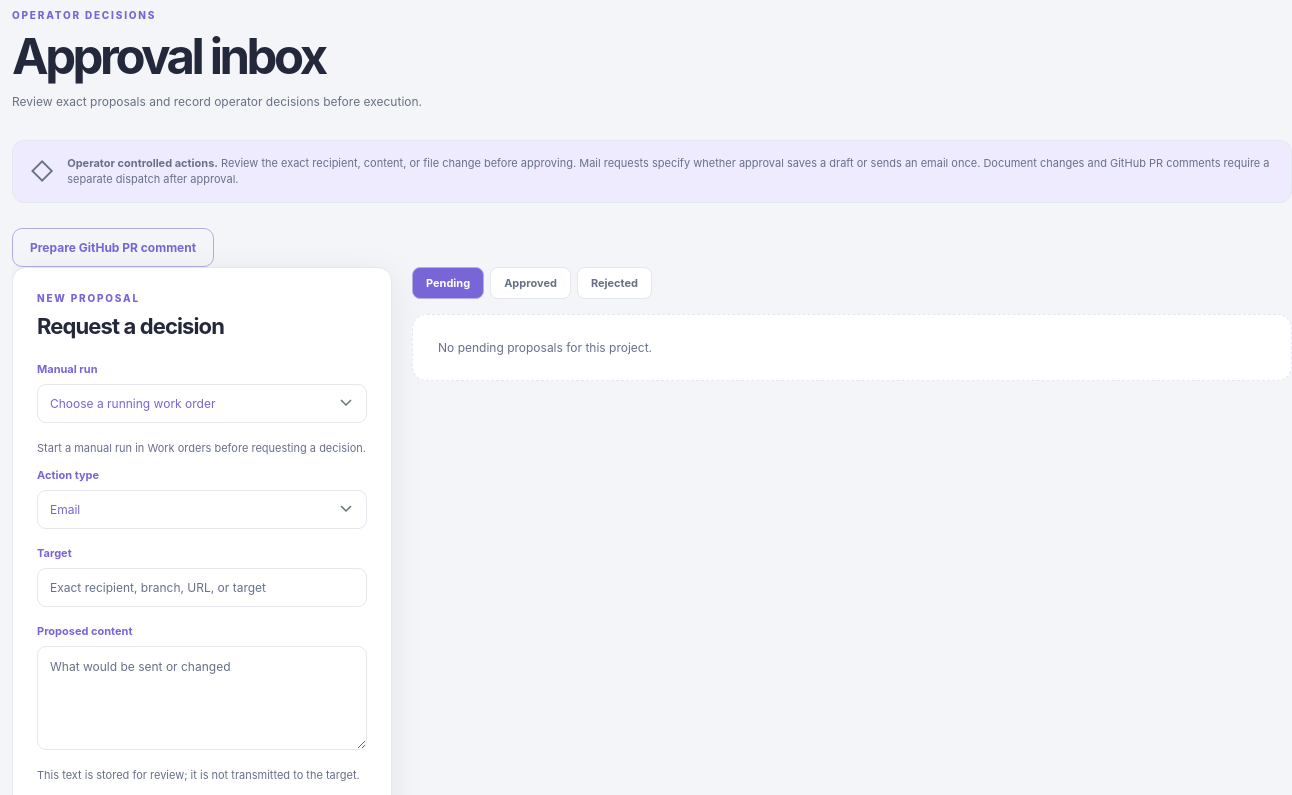
offers one readback for an unreconciled attempt without offering another POST
Click the button "approved": click(531, 282) [490,266,571,298]
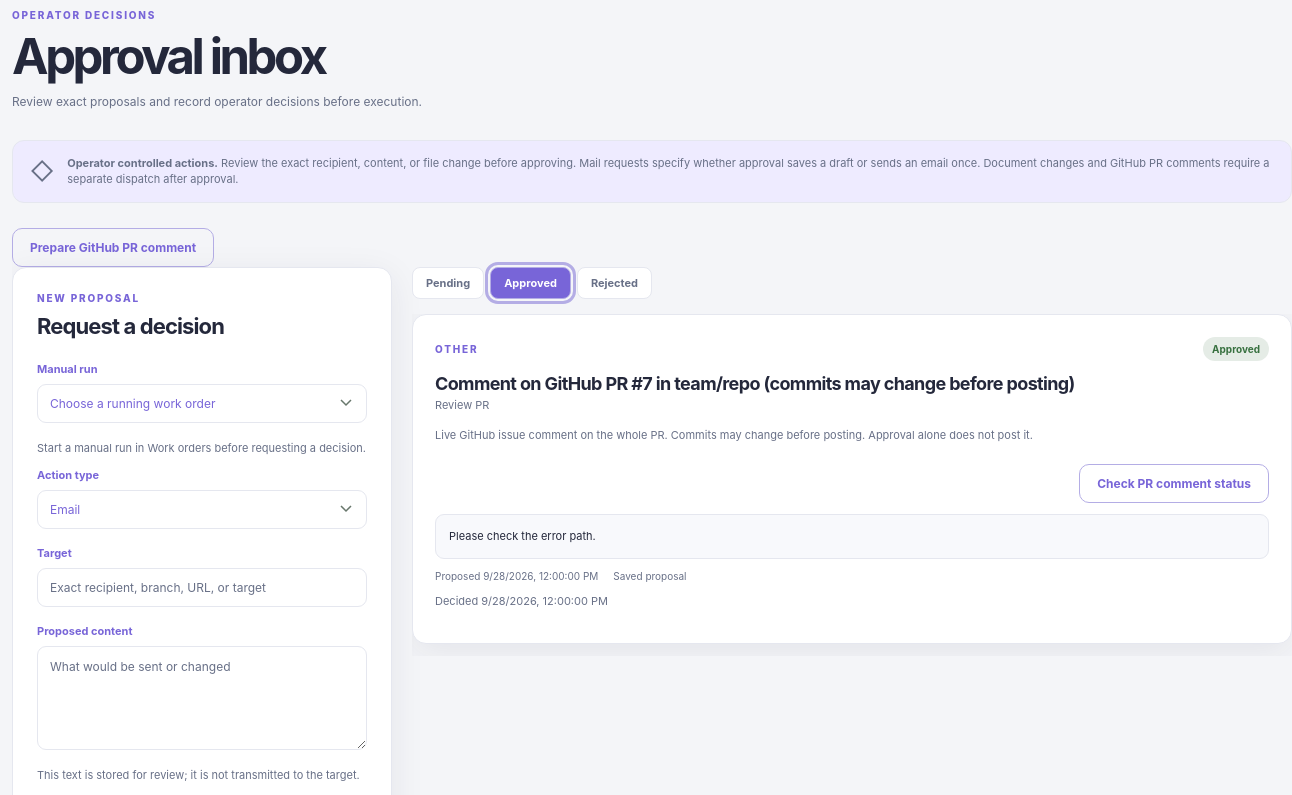
Click the button "Check PR comment status": click(1174, 483) [1079,464,1269,503]
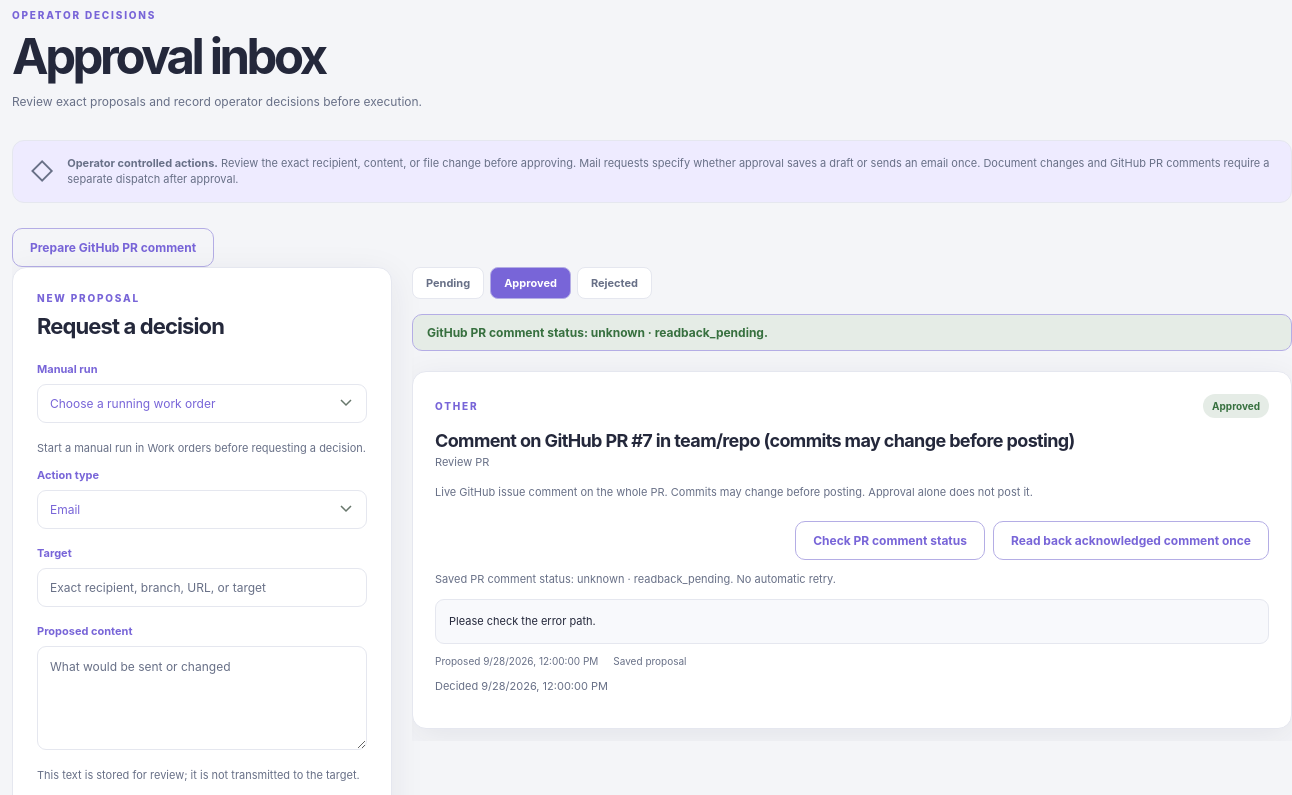
Click the button "Read back acknowledged comment once": click(1131, 540) [993,521,1269,560]
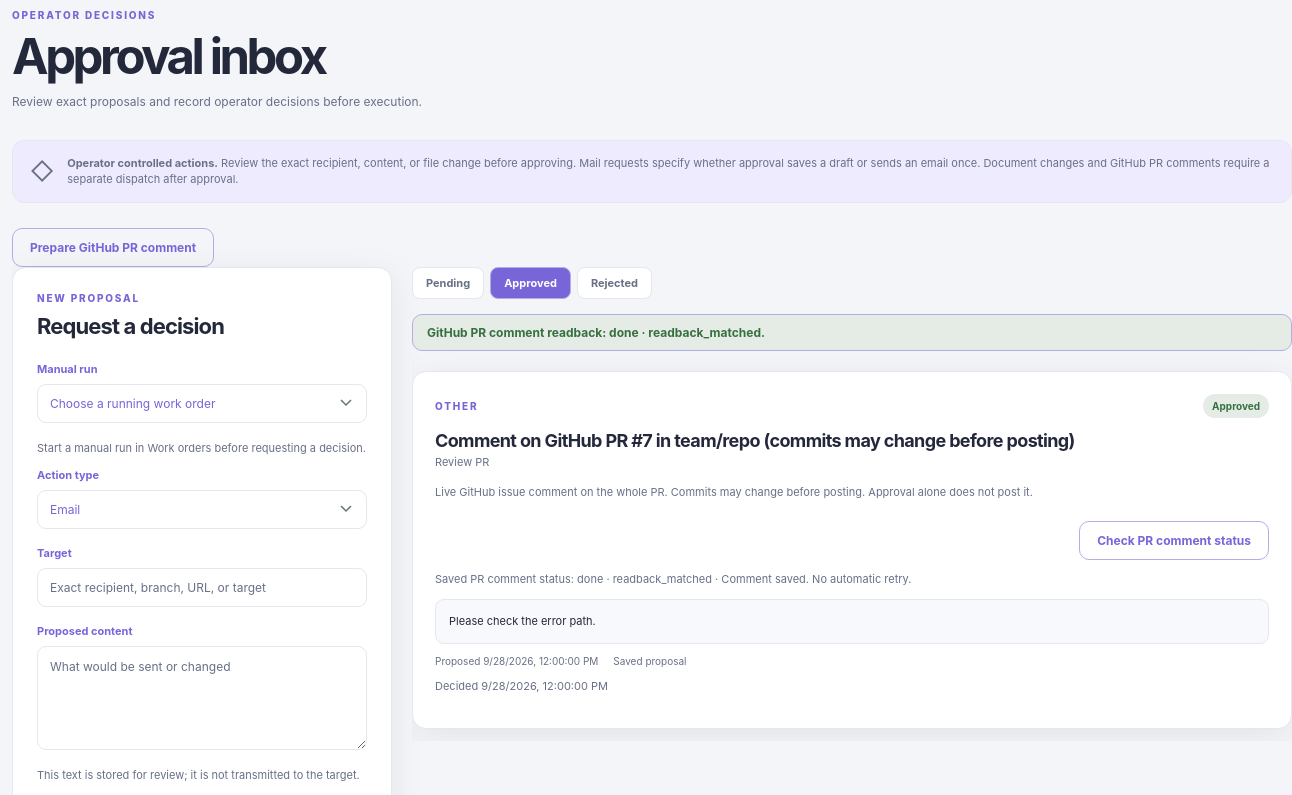
Expected: the text "Saved PR comment status: done" is shown, [435,572,912,586]
Expected: the button "Read back acknowledged comment once" is gone
